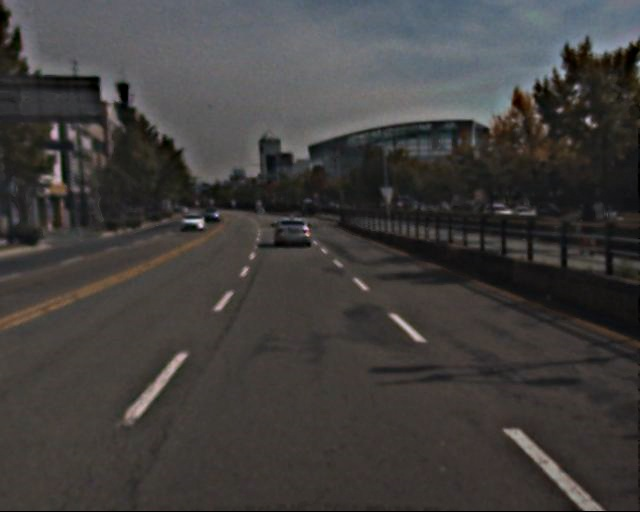person: (572, 201, 599, 261)
